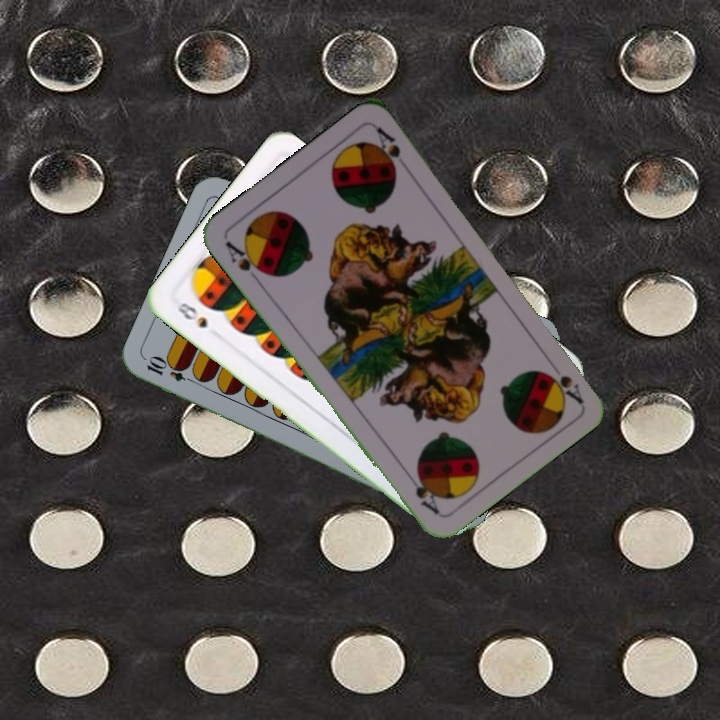E10: (142, 354, 200, 387)
S8: (172, 298, 210, 331)
SA: (221, 237, 270, 286), (546, 369, 586, 407)
